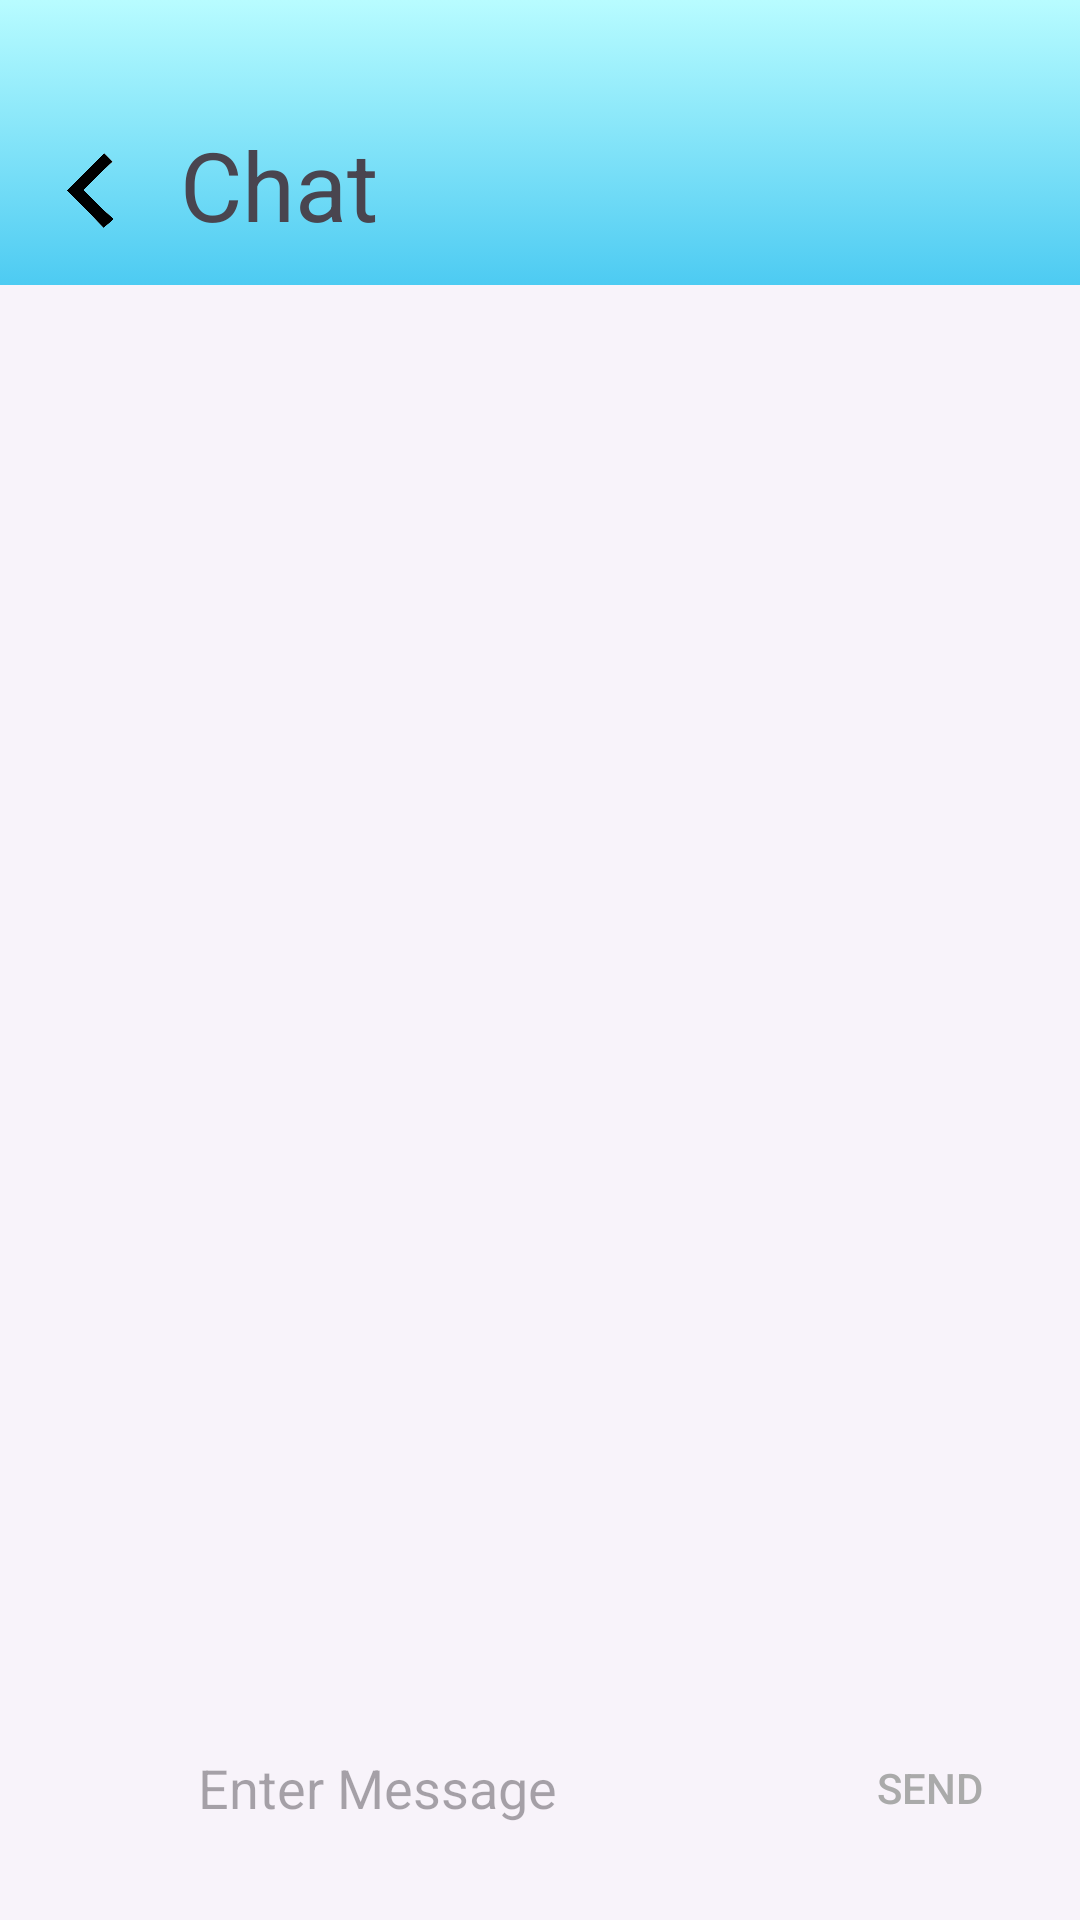

Icon click points for this 1080 × 1920 phone screenshot, format (x,y):
back arrow: (90,202)
